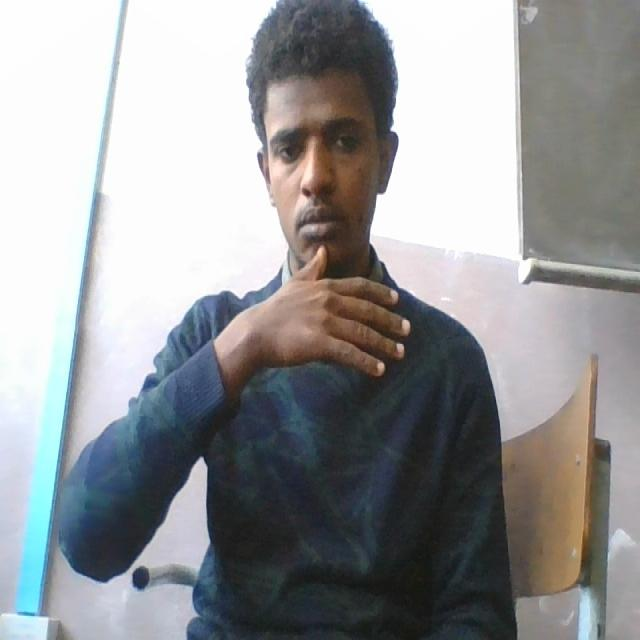enat: (243, 223, 418, 390)
